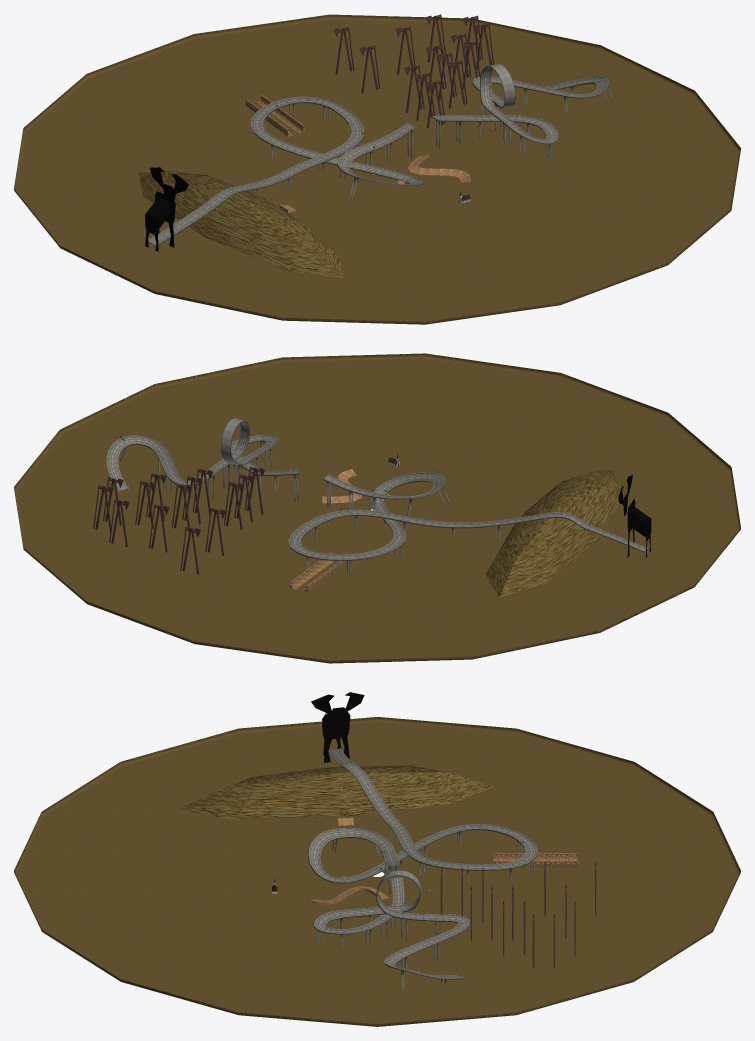
File: map3.glb
3 renders of one model, top to bottom at view 1: azimuth 30°, elevation 25°; view 2: azimuth 150°, elevation 25°; view 3: azimuth 270°, elevation 25°, orthographic.
Visible parts, largest first — view 1: map; view 2: map; view 3: map.
Part boxes in pixels (left/top/right/bottom): map: left=14, top=14, right=740, bottom=324; map: left=14, top=353, right=740, bottom=663; map: left=14, top=692, right=740, bottom=1026.
Bounding box in the file's own units: 1378 × 200 × 1378.
Materials: 15 (13 with a texture image).
